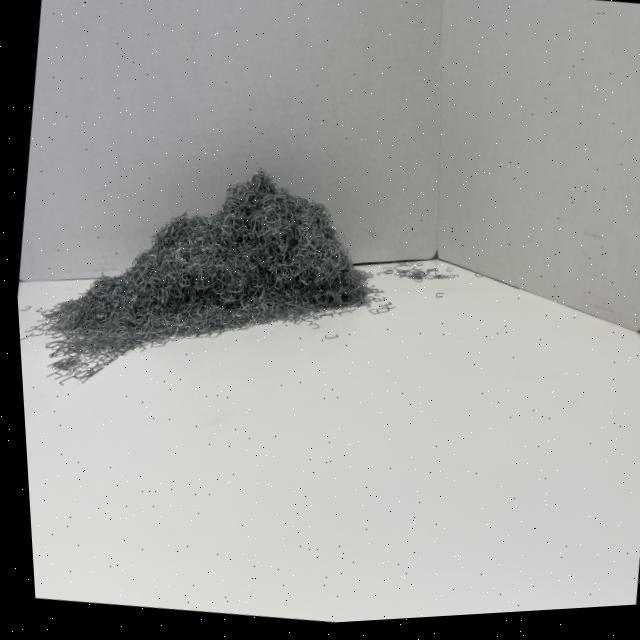staples: (9, 127, 395, 432)
